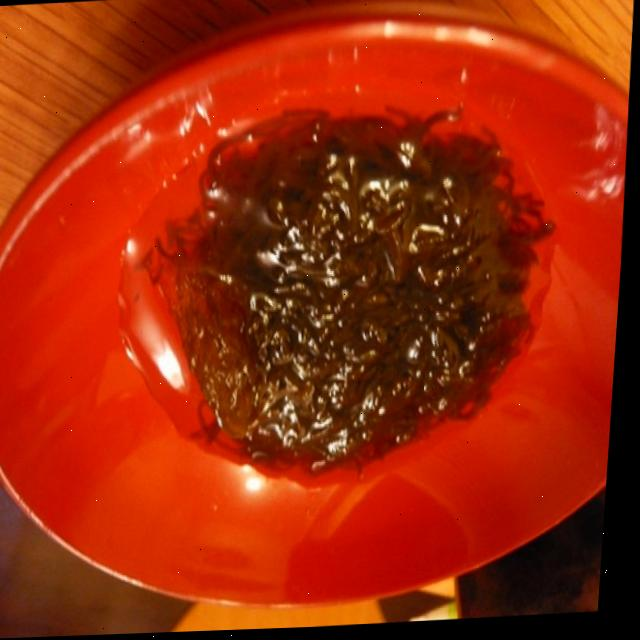蔬菜料理: (32, 14, 616, 591)
